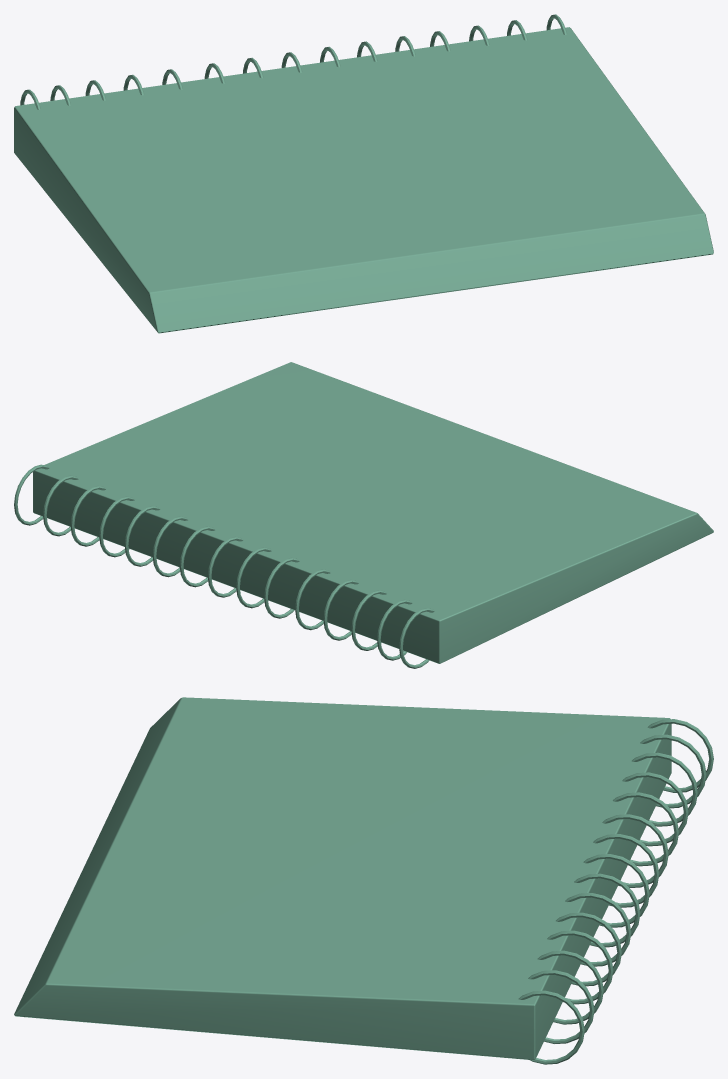
File: Sketchbook.fbx
The picture shows the model from 3 angles, top to bottom: view 1: azimuth 30°, elevation 25°; view 2: azimuth 150°, elevation 25°; view 3: azimuth 270°, elevation 25°; orthographic projection. The views are drawn at different scales.
Parts seen in each view (by area): view 1: pCube1, pTorus16; view 2: pCube1, pTorus16; view 3: pCube1, pTorus16.
Boxes of the visible parts, x1,y1,x2,y2 form: pCube1: (14, 27, 713, 333); pTorus16: (20, 14, 567, 109); pCube1: (33, 362, 713, 663); pTorus16: (14, 464, 434, 668); pCube1: (14, 697, 671, 1060); pTorus16: (518, 719, 713, 1064).
Bounding box in the file's own units: 41.09 × 4.23 × 36.69.
